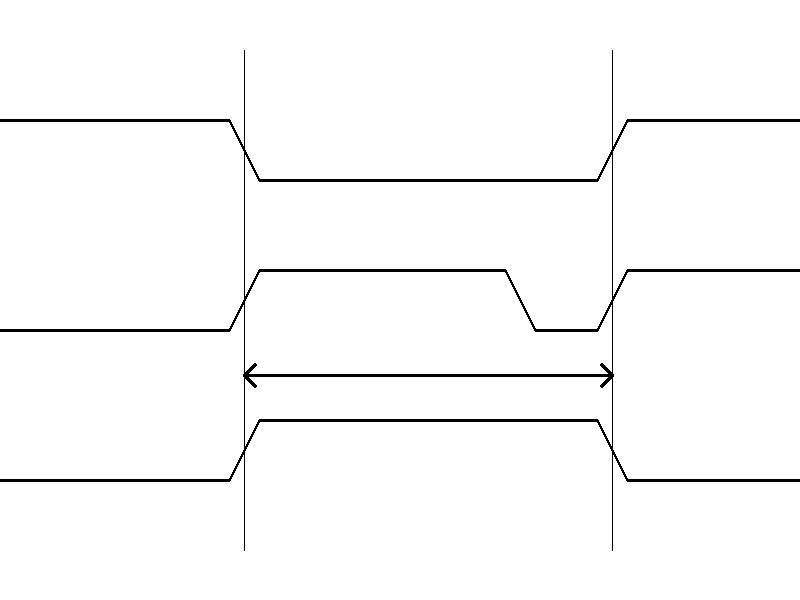double_arrow: (244, 360, 612, 390)
